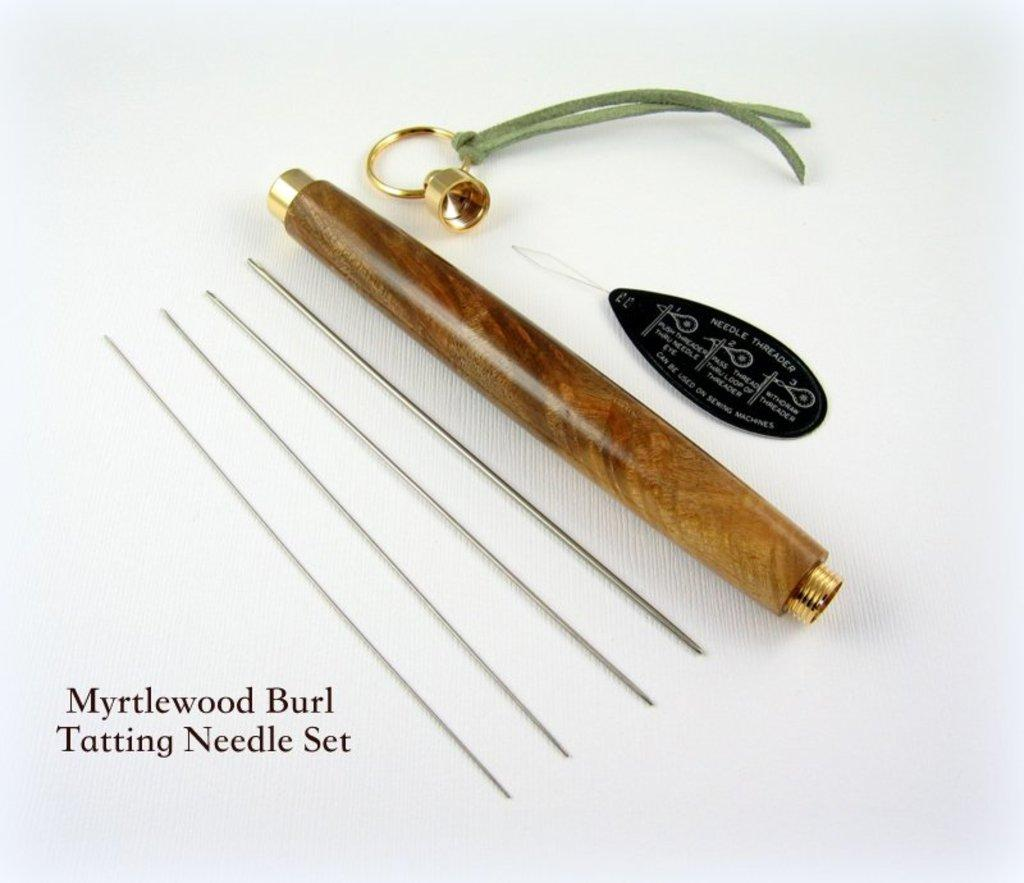pen: (264, 159, 847, 608)
